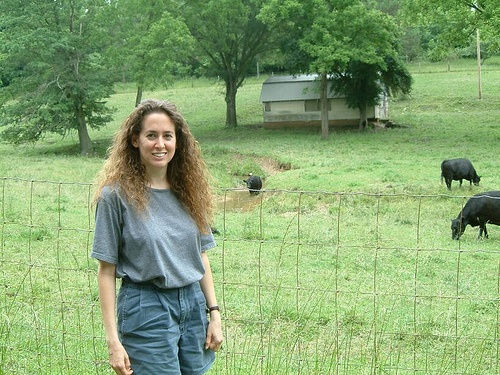head: (131, 101, 178, 165)
person: (89, 96, 218, 375)
